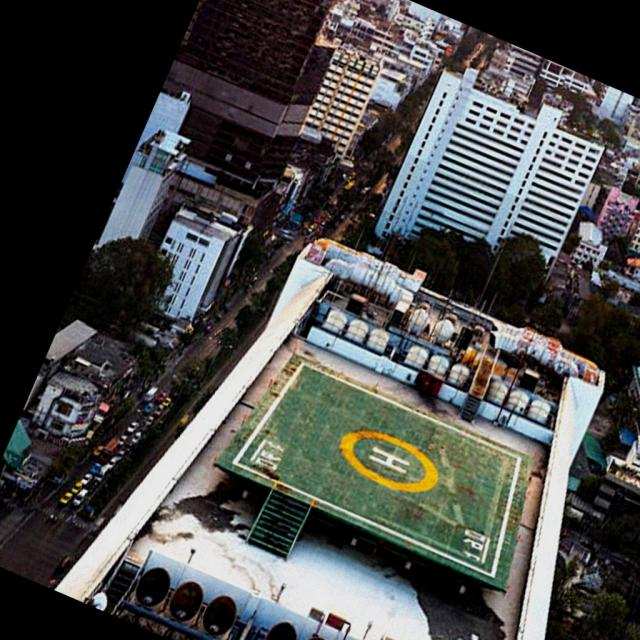helipad: (336, 426, 441, 495)
